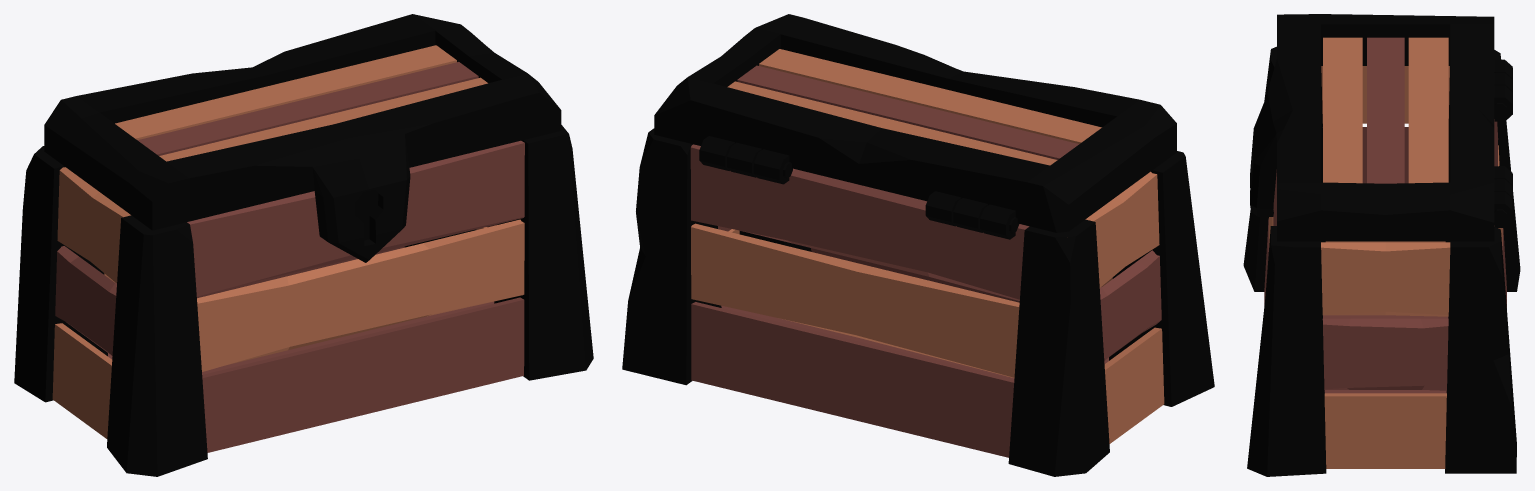
The model's file is Chest 01.fbx.
The picture shows the model from 3 angles, left to right: view 1: azimuth 30°, elevation 25°; view 2: azimuth 150°, elevation 25°; view 3: azimuth 270°, elevation 25°; orthographic projection. The views are drawn at different scales.
Visible parts, largest first — view 1: Chest 01, Chest 01 Lid; view 2: Chest 01, Chest 01 Lid; view 3: Chest 01, Chest 01 Lid.
Part boxes in pixels (bbox=[...]): Chest 01: bbox=[14, 125, 593, 476]; Chest 01 Lid: bbox=[44, 14, 561, 262]; Chest 01: bbox=[622, 128, 1214, 476]; Chest 01 Lid: bbox=[654, 14, 1176, 232]; Chest 01: bbox=[1243, 46, 1520, 476]; Chest 01 Lid: bbox=[1250, 14, 1512, 241].
Bounding box in the file's own units: 136 × 75.87 × 72.
